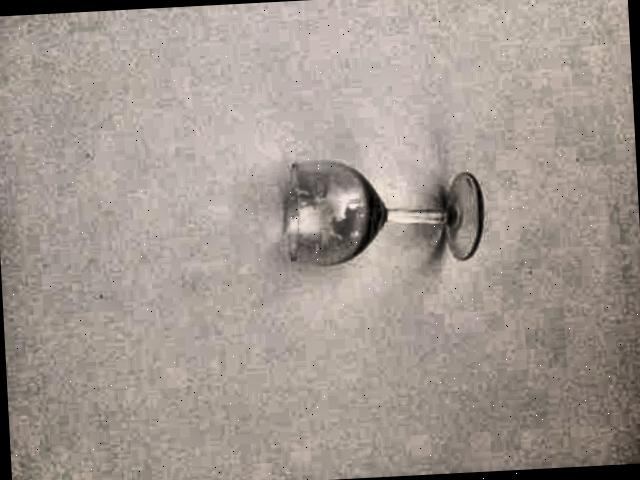Almennt: (226, 118, 526, 306)
